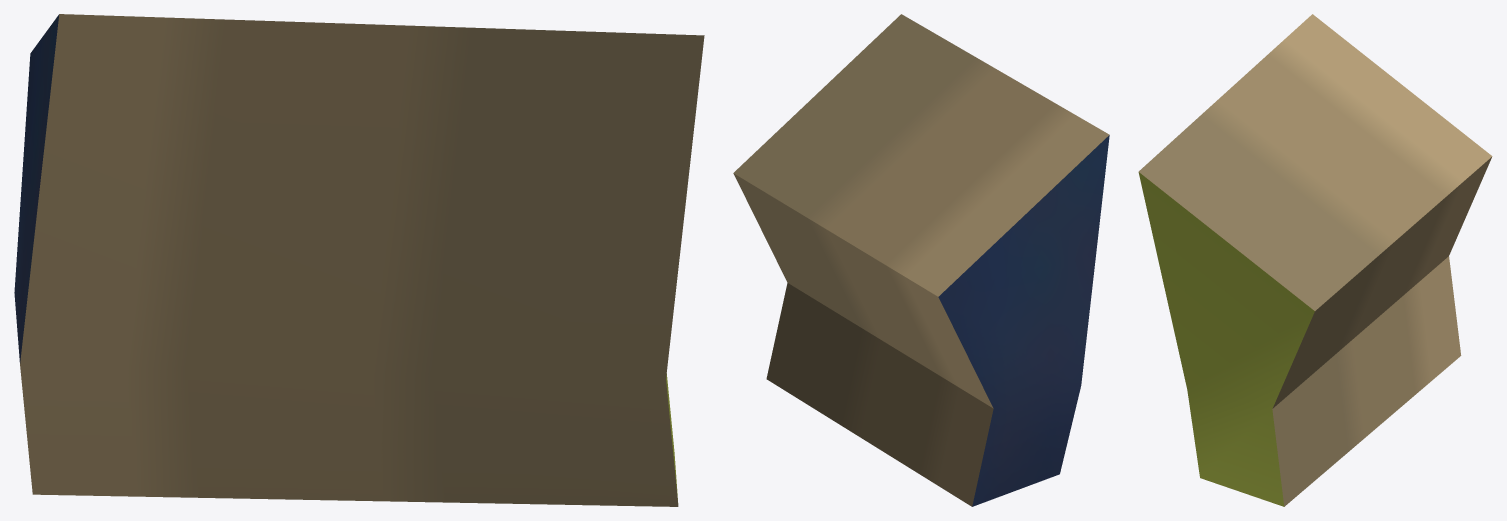
Rendered from 0625_Bhutan.glb.
3 renders of one model, left to right at view 1: azimuth 30°, elevation 25°; view 2: azimuth 150°, elevation 25°; view 3: azimuth 270°, elevation 25°, orthographic. The views are drawn at different scales.
Parts seen in each view (by area): view 1: part_0; view 2: part_0; view 3: part_0.
Boxes of the visible parts, x1,y1,x2,y2 form: part_0: (14,14,704,506); part_0: (733,14,1109,506); part_0: (1138,14,1492,506).
Size of the model in its own units: 0.221 by 0.1929 by 0.1896.
1 material, 1 textured.
